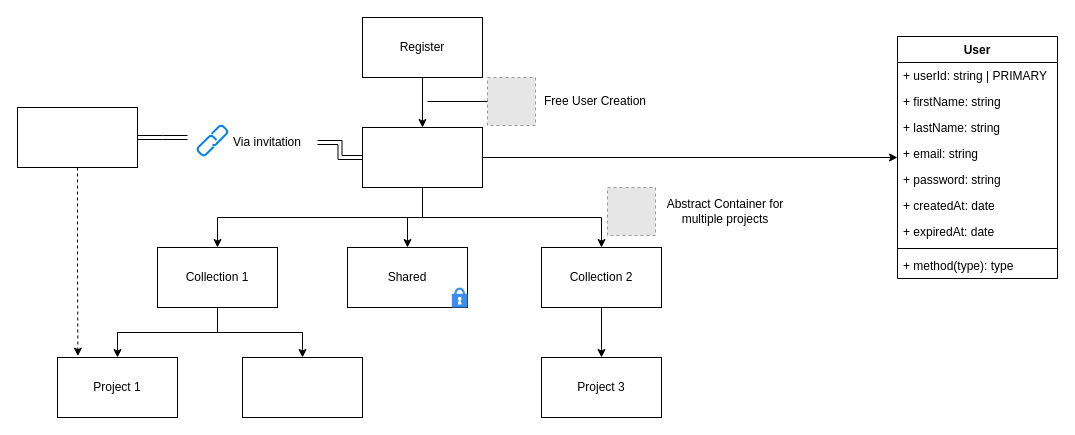
The diagram is 1075 pixels wide and 435 high, and some of its shapes have lost their labels. Grey dashed boxes stand in for pictures. Here are the shapes that lost their labels. From the top down, the centre of each, then its label:
At point 77,137: "User 2".
At point 422,157: "User 1".
At point 302,387: "Project 2".
